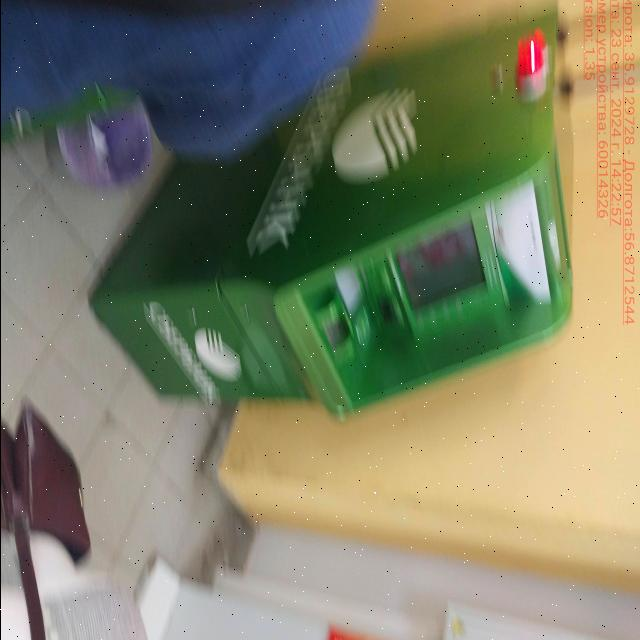bank: (92, 8, 570, 422)
